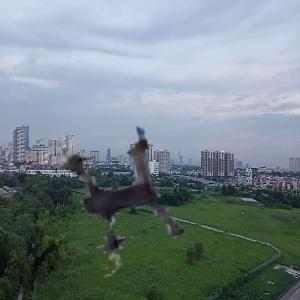drone: (31, 118, 200, 287)
